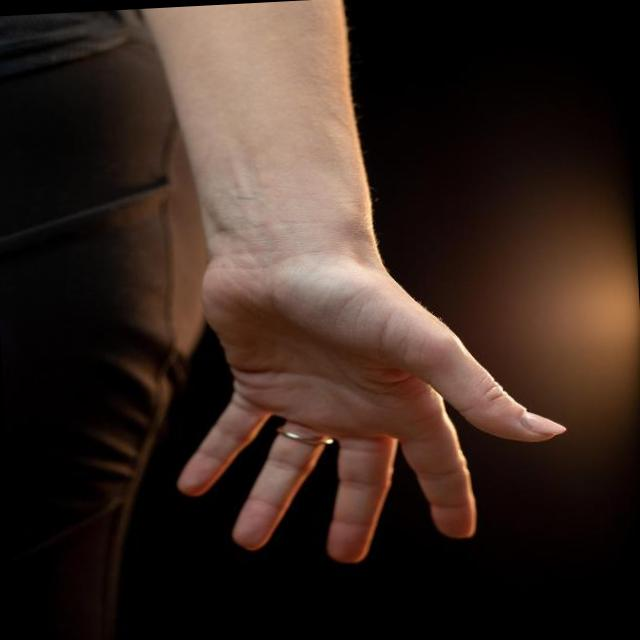Nail: (521, 411, 566, 438)
